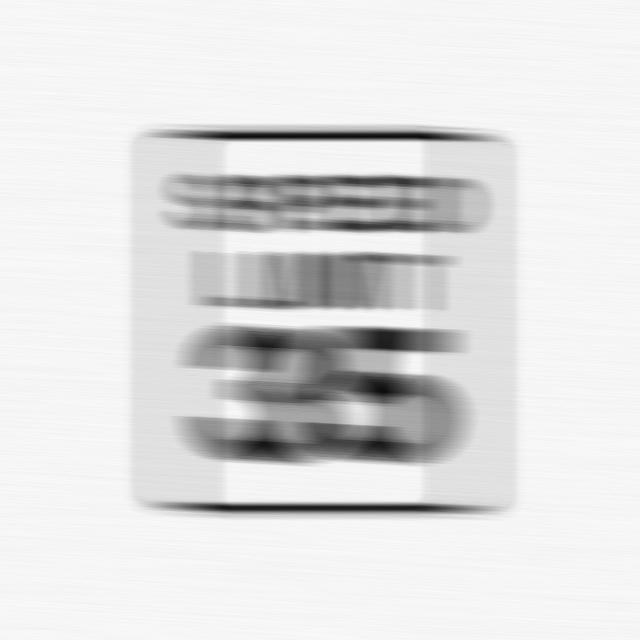speedLimit35: (156, 118, 489, 517)
